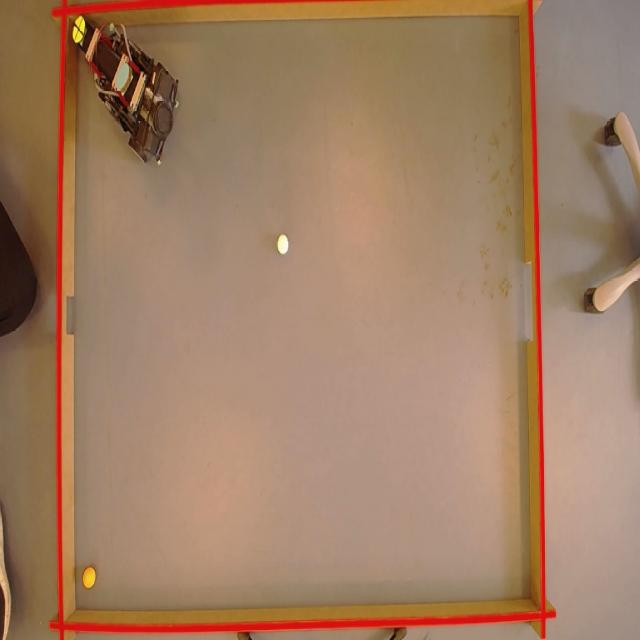orange: (81, 566, 97, 590)
robot: (61, 15, 182, 174)
robot-front: (72, 16, 85, 44)
robot-rear: (116, 62, 130, 92)
white: (275, 233, 289, 255)
